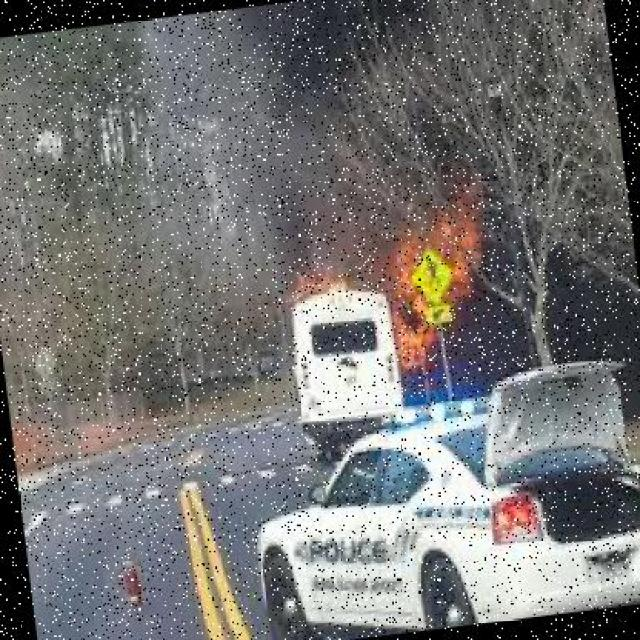fire: (274, 176, 515, 387)
